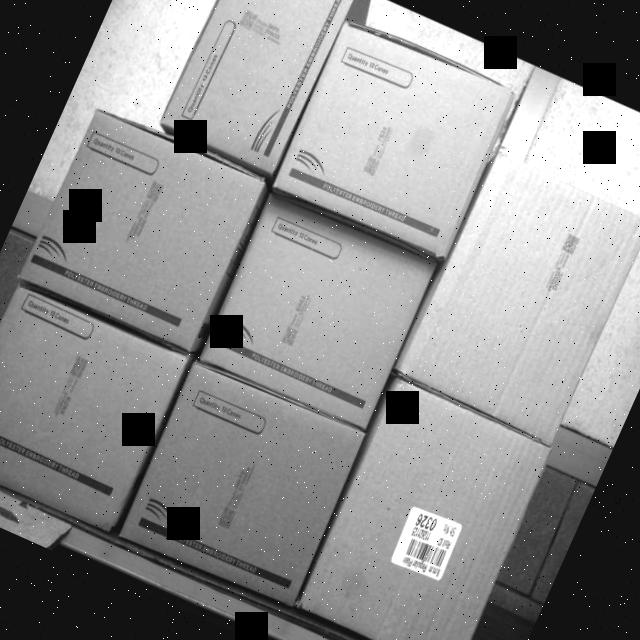box: (399, 146, 640, 438), (300, 379, 556, 640), (117, 356, 369, 616), (21, 104, 268, 352), (276, 22, 518, 260), (202, 190, 436, 426), (0, 285, 191, 537), (158, 0, 355, 175)
